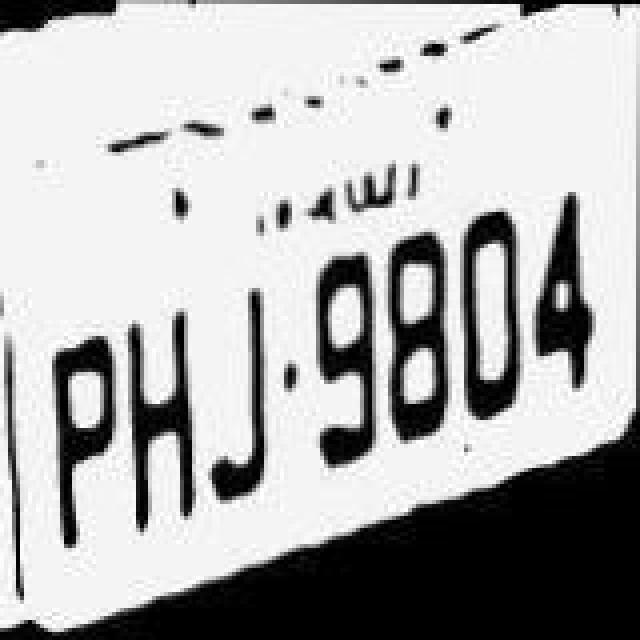4: (526, 176, 598, 440)
8: (388, 220, 456, 496)
9: (316, 244, 384, 512)
H: (130, 288, 202, 544)
J: (208, 270, 284, 534)
O: (454, 198, 526, 462)
P: (38, 306, 118, 574)
